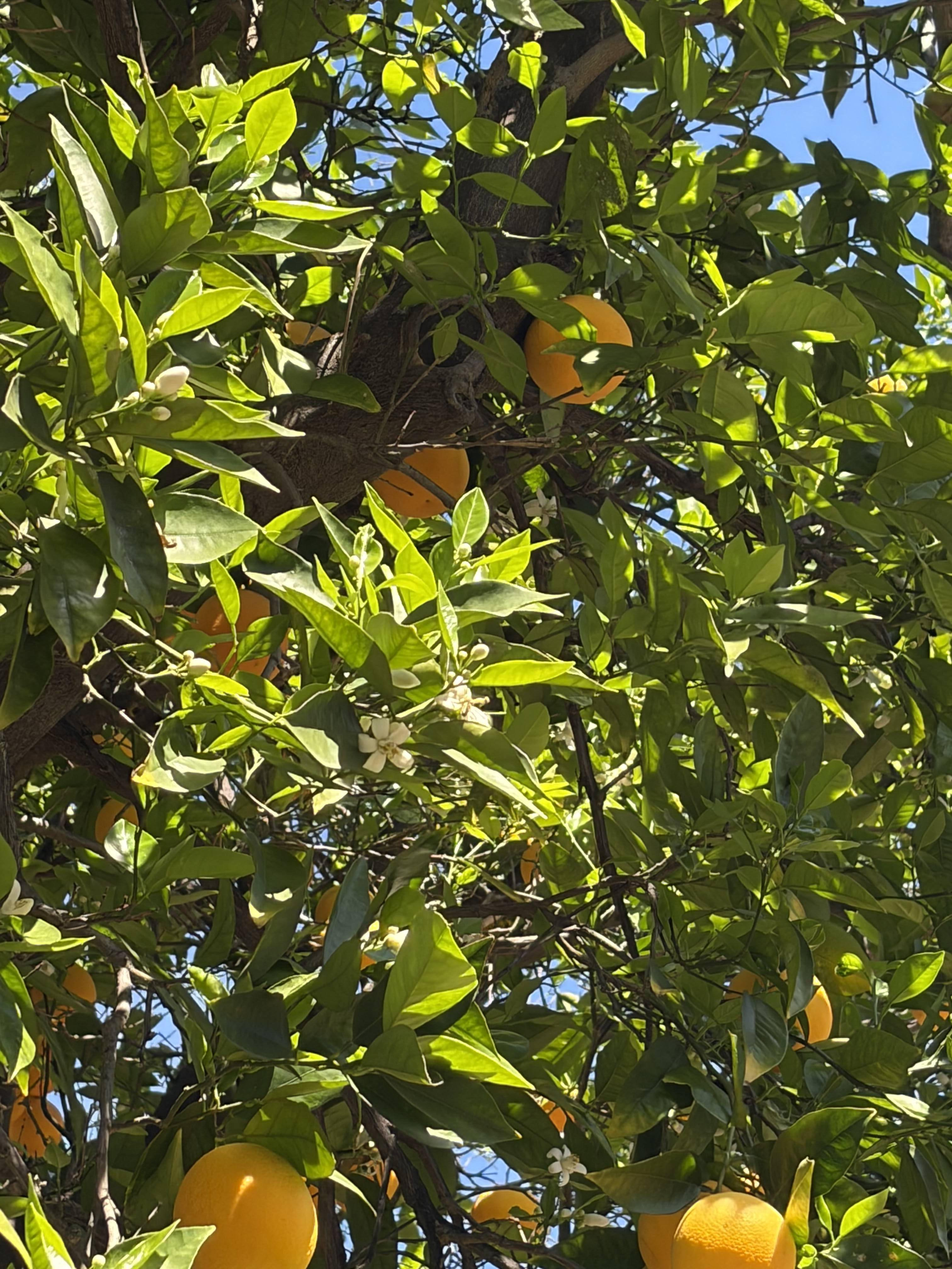orange: (174, 1143, 317, 1269), (726, 960, 833, 1074), (523, 294, 633, 404), (672, 1191, 796, 1269), (191, 591, 287, 681), (637, 1180, 733, 1269), (370, 434, 470, 517), (314, 885, 382, 970), (331, 1147, 400, 1213), (29, 963, 97, 1026), (9, 1092, 62, 1157), (471, 1189, 543, 1234), (500, 826, 542, 884), (96, 799, 138, 844), (911, 996, 952, 1032), (285, 320, 330, 346), (542, 1101, 576, 1133), (94, 733, 133, 757), (28, 1065, 54, 1097), (301, 1176, 320, 1213), (37, 1034, 52, 1064)
